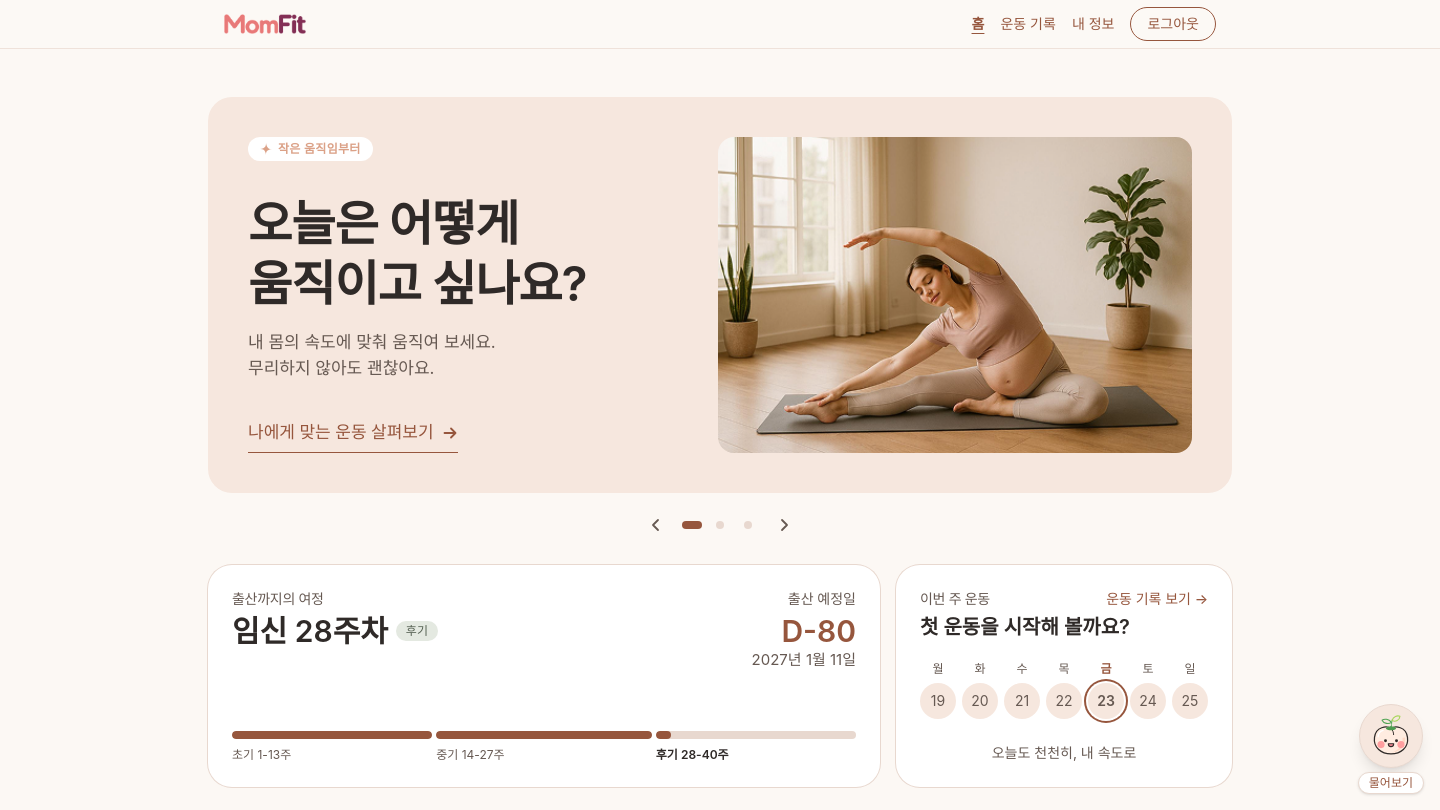
Test: HomePage 챗봇 › 오른쪽 아래에 챗봇 캐릭터 버튼이 떠 있고 누르면 채팅창이 열린다
Expected: the dialog "피치" is not shown
Click the button with aria-label "피치에게 물어보기".
click(1391, 749)  # box [1358,704,1424,794]
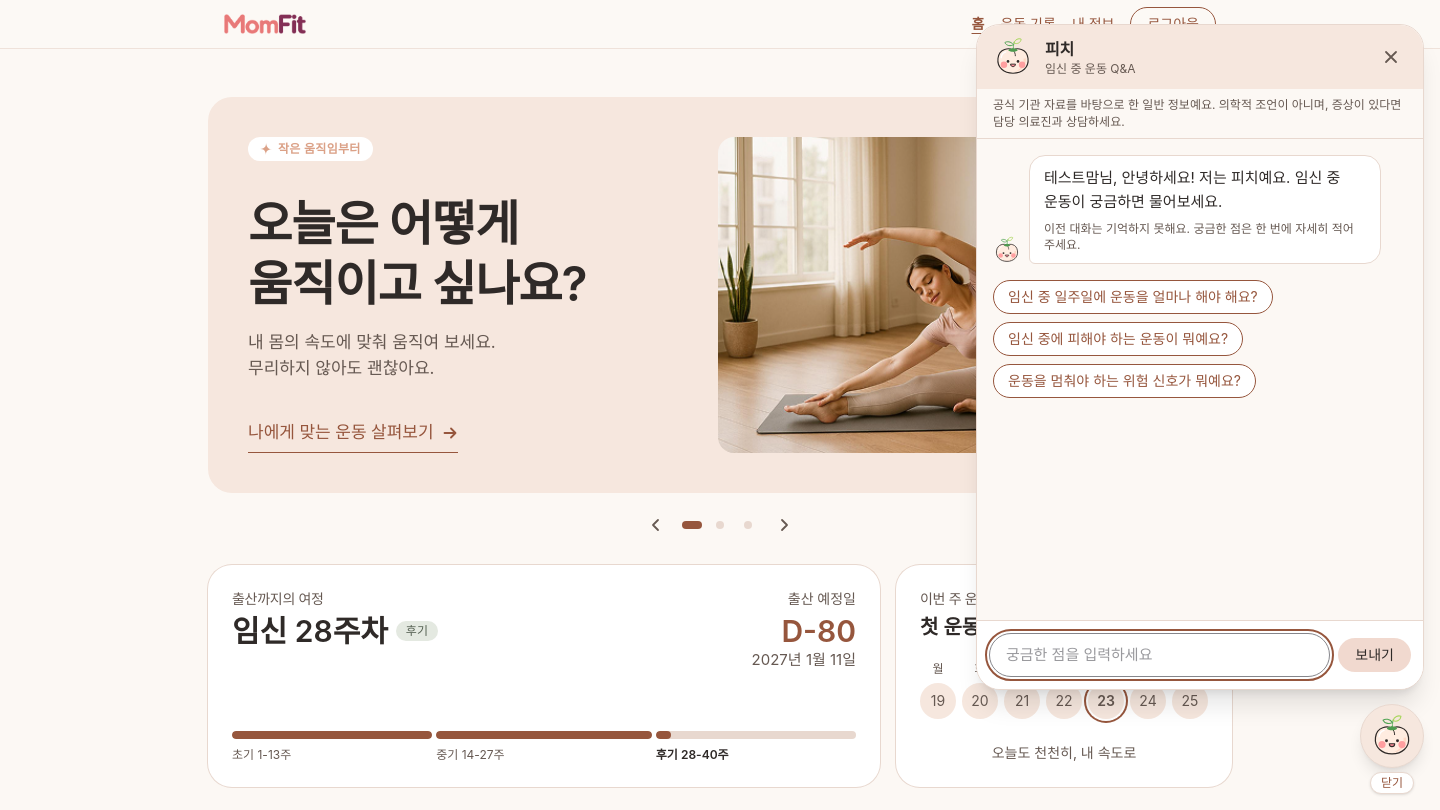
Expected: the dialog "피치" shows "테스트맘님, 안녕하세요!", [1044,168,1195,187]
